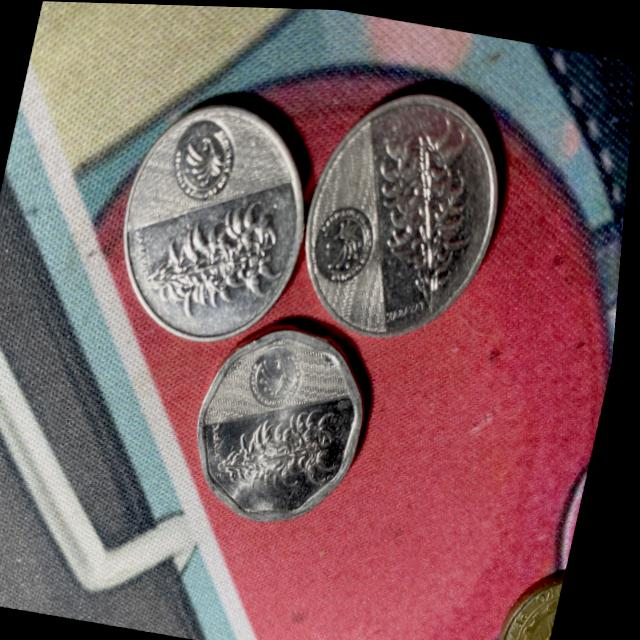5_New_Back: (360, 105, 492, 320), (139, 184, 293, 325), (220, 385, 359, 504)
